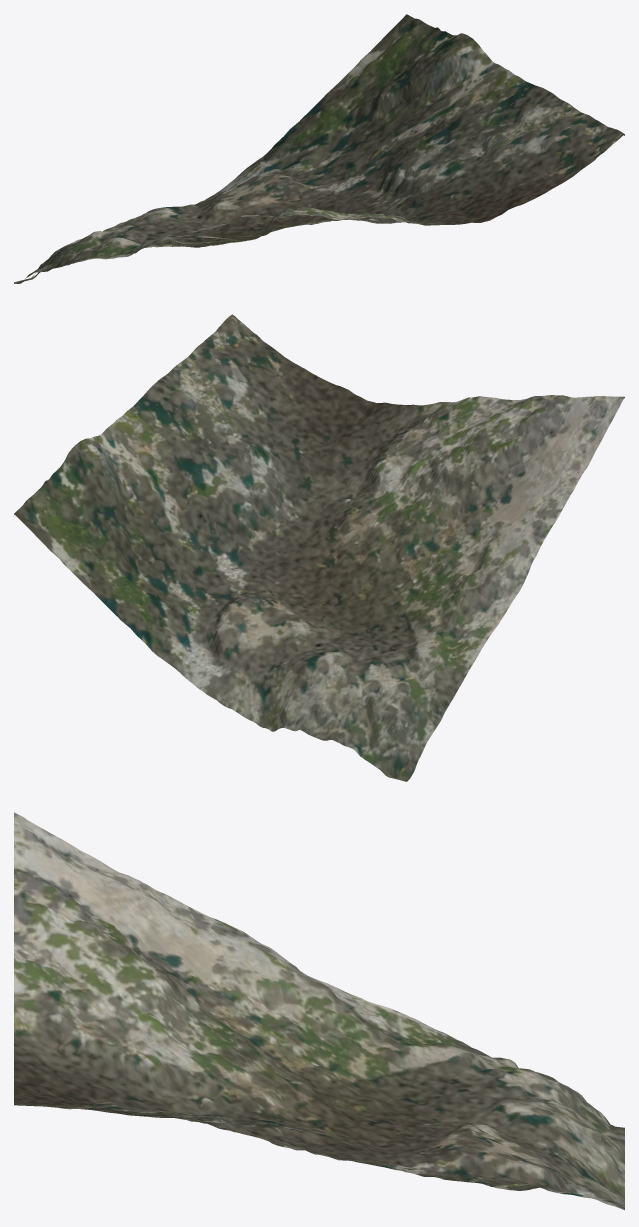
3 renders of one model, top to bottom at view 1: azimuth 30°, elevation 25°; view 2: azimuth 150°, elevation 25°; view 3: azimuth 270°, elevation 25°, orthographic. The views are drawn at different scales.
Size of the model in its own units: 250 by 138 by 241.
1 material, 1 textured.
